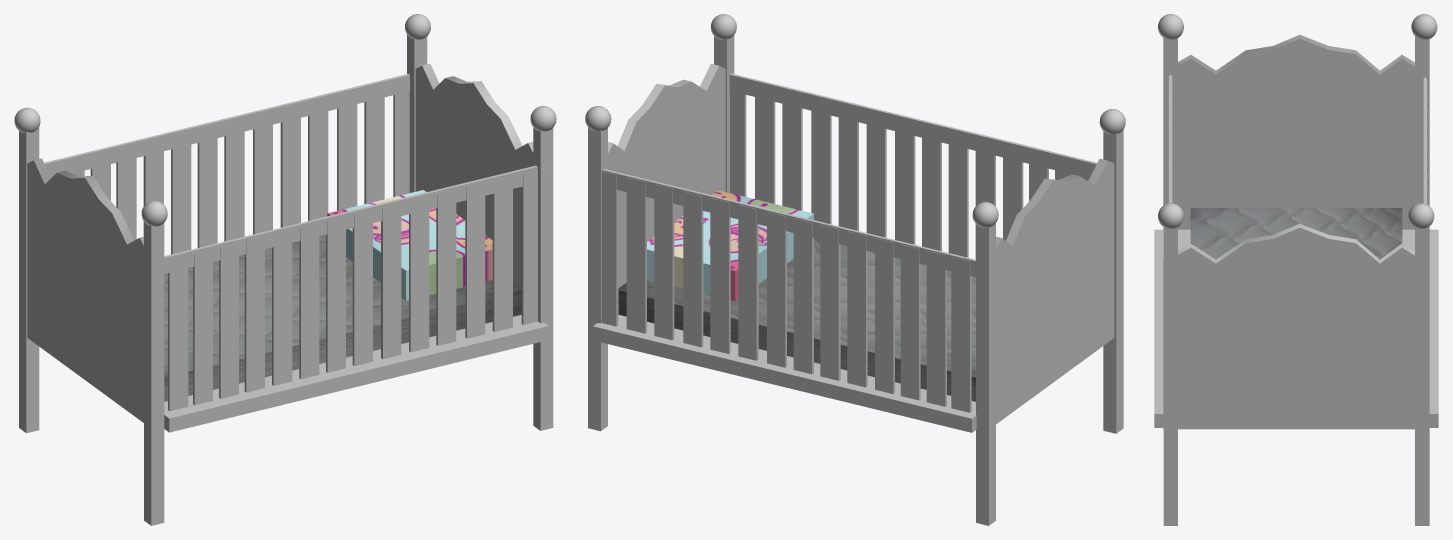
The model's file is bedf.fbx.
3 renders of one model, left to right at view 1: azimuth 30°, elevation 25°; view 2: azimuth 150°, elevation 25°; view 3: azimuth 270°, elevation 25°, orthographic.
Parts seen in each view (by area): view 1: pCube20, pCube21, pCube5, pCube51, pCube53, pCube4, pCube1, pCube3, pCube50, pCube52, pCube40, pCube49 (+24 smaller); view 2: pCube20, pCube21, pCube5, pCube51, pCube50, pCube1, pCube2, pCube4, pCube52, pCube53, pCube23, pCube29 (+24 smaller); view 3: pCube21, pCube20, pCube51, pCube2, pCube3, pCube5, pCube1, pCube4, pSphere2, pSphere5, pSphere3, pSphere4 (+2 smaller).
Part boxes in pixels (x1,y1,x2,y2): pCube20: (27,158,143,422); pCube21: (415,63,549,333); pCube5: (164,315,548,432); pCube51: (164,234,521,401); pCube53: (44,74,409,177); pCube4: (144,222,164,525); pCube1: (19,126,39,433); pCube3: (533,127,553,430); pCube50: (164,165,537,273); pCube52: (327,190,492,300); pCube40: (409,196,429,352); pCube49: (168,255,188,411); pCube20: (996,158,1114,424); pCube21: (608,64,725,287); pCube5: (592,315,976,432); pCube51: (618,238,975,401); pCube50: (729,73,1096,178); pCube1: (976,223,995,525); pCube2: (588,127,607,431); pCube4: (1103,129,1123,433); pCube52: (647,190,813,301); pCube53: (602,169,975,277); pCube23: (626,177,646,333); pCube29: (793,218,813,374); pCube21: (1163,223,1414,429); pCube20: (1178,34,1414,229); pCube51: (1190,208,1402,259); pCube2: (1415,226,1429,525); pCube3: (1163,227,1177,525); pCube5: (1154,229,1438,427); pCube1: (1415,34,1429,205); pCube4: (1163,37,1177,229); pSphere2: (1408,203,1434,228); pSphere5: (1411,14,1437,39); pSphere3: (1158,203,1183,228); pSphere4: (1158,14,1183,39).
Bounding box in the file's own units: 17.09 × 12.68 × 10.26.
